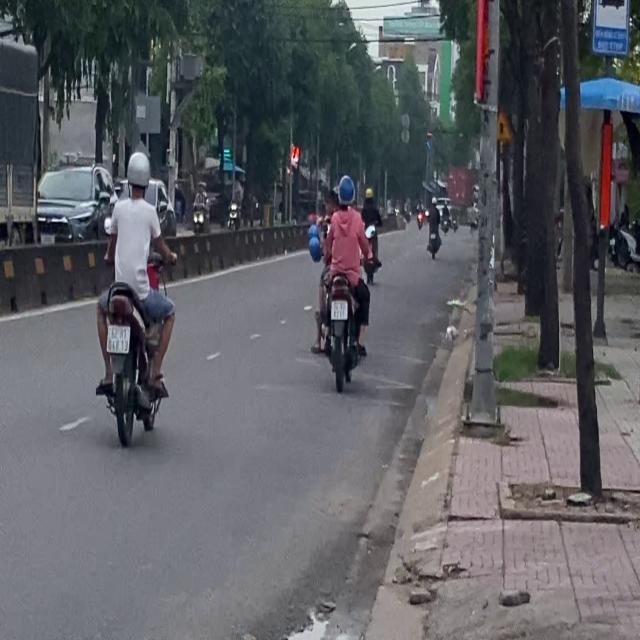helmet: (126, 150, 150, 197), (336, 174, 355, 208)
licenseplate: (92, 148, 175, 444), (311, 173, 371, 389)
nohelmet: (107, 324, 129, 352), (331, 300, 346, 319)
